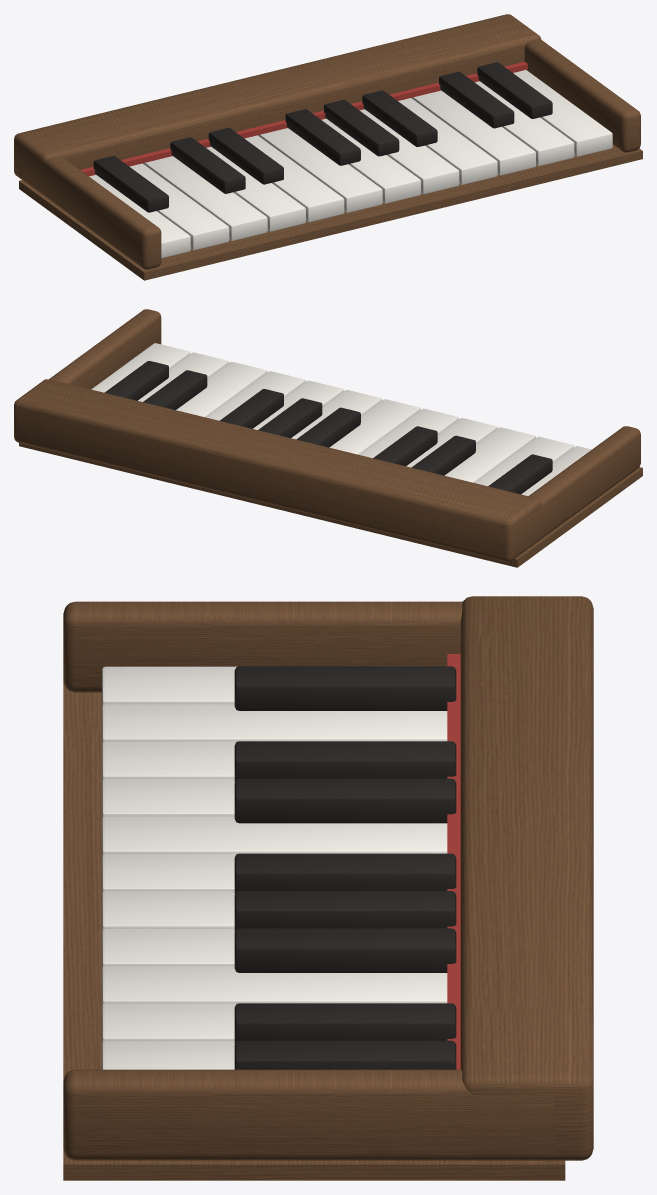
The model's file is keyboard.glb.
The picture shows the model from 3 angles, top to bottom: view 1: azimuth 30°, elevation 25°; view 2: azimuth 150°, elevation 25°; view 3: azimuth 270°, elevation 25°; orthographic projection. The views are drawn at different scales.
Parts seen in each view (by area): view 1: case_rail, case_bed, case_cheek, case_cheek.001, key_F4, key_C4, key_C5, key_B3, key_E5, key_B4, key_E4, key_D4 (+13 smaller); view 2: case_rail, case_cheek, case_cheek.001, case_bed, key_C5, key_F4, key_C4, key_Cs5, key_Gs4, key_Fs4, key_As3, key_Ds4 (+12 smaller); view 3: case_rail, case_cheek.001, case_cheek, case_bed, key_B4, key_E4, key_B3, key_Ds4, key_As3, key_As4, key_Cs4, key_Cs5 (+12 smaller).
Part boxes in pixels (left/top/right/bottom): case_rail: left=14, top=14, right=541, bottom=194; case_bed: left=19, top=144, right=642, bottom=280; case_cheek: left=21, top=148, right=161, bottom=269; case_cheek.001: left=524, top=39, right=640, bottom=152; key_F4: left=258, top=128, right=382, bottom=212; key_C4: left=143, top=156, right=267, bottom=240; key_C5: left=412, top=90, right=535, bottom=175; key_B3: left=130, top=163, right=229, bottom=250; key_E5: left=513, top=70, right=612, bottom=156; key_B4: left=398, top=98, right=497, bottom=184; key_E4: left=244, top=135, right=344, bottom=222; key_D4: left=206, top=146, right=305, bottom=231; case_rail: left=14, top=379, right=541, bottom=561; case_cheek: left=520, top=426, right=640, bottom=554; case_cheek.001: left=49, top=309, right=161, bottom=389; case_bed: left=19, top=443, right=642, bottom=567; key_C5: left=176, top=362, right=267, bottom=417; key_F4: left=329, top=399, right=420, bottom=454; key_C4: left=445, top=427, right=535, bottom=482; key_Cs5: left=143, top=370, right=207, bottom=409; key_Gs4: left=258, top=398, right=322, bottom=438; key_Fs4: left=296, top=407, right=360, bottom=447; key_As3: left=488, top=454, right=552, bottom=494; key_Ds4: left=373, top=426, right=437, bottom=466; case_rail: left=460, top=596, right=593, bottom=1160; case_cheek.001: left=63, top=1069, right=553, bottom=1160; case_cheek: left=63, top=601, right=462, bottom=692; case_bed: left=63, top=681, right=565, bottom=1180; key_B4: left=102, top=966, right=447, bottom=1005; key_E4: left=102, top=816, right=447, bottom=856; key_B3: left=102, top=704, right=447, bottom=743; key_Ds4: left=234, top=778, right=456, bottom=823; key_As3: left=234, top=666, right=456, bottom=710; key_As4: left=234, top=928, right=456, bottom=972; key_Cs4: left=234, top=741, right=456, bottom=781; key_Cs5: left=234, top=1003, right=456, bottom=1043.
Size of the model in its own units: 0.39 by 0.038 by 0.1795.
Materials: 4 (1 with a texture image).
